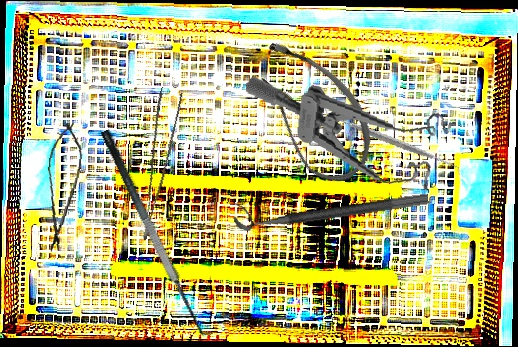Cannula: (228, 26, 394, 196)
Fixation Ring: (231, 176, 430, 233)
Micro Scissor: (39, 119, 86, 255)
Spatula Surgical: (98, 120, 221, 344), (323, 72, 461, 209)
Speculum: (236, 75, 459, 194)
Tissue Forceps: (117, 86, 191, 241)
